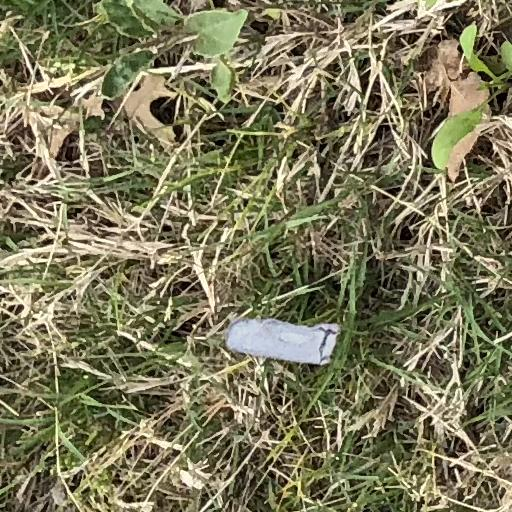smoke: (226, 319, 339, 364)
